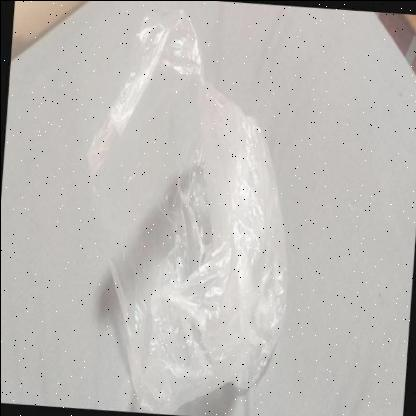Others: (86, 0, 288, 414)
